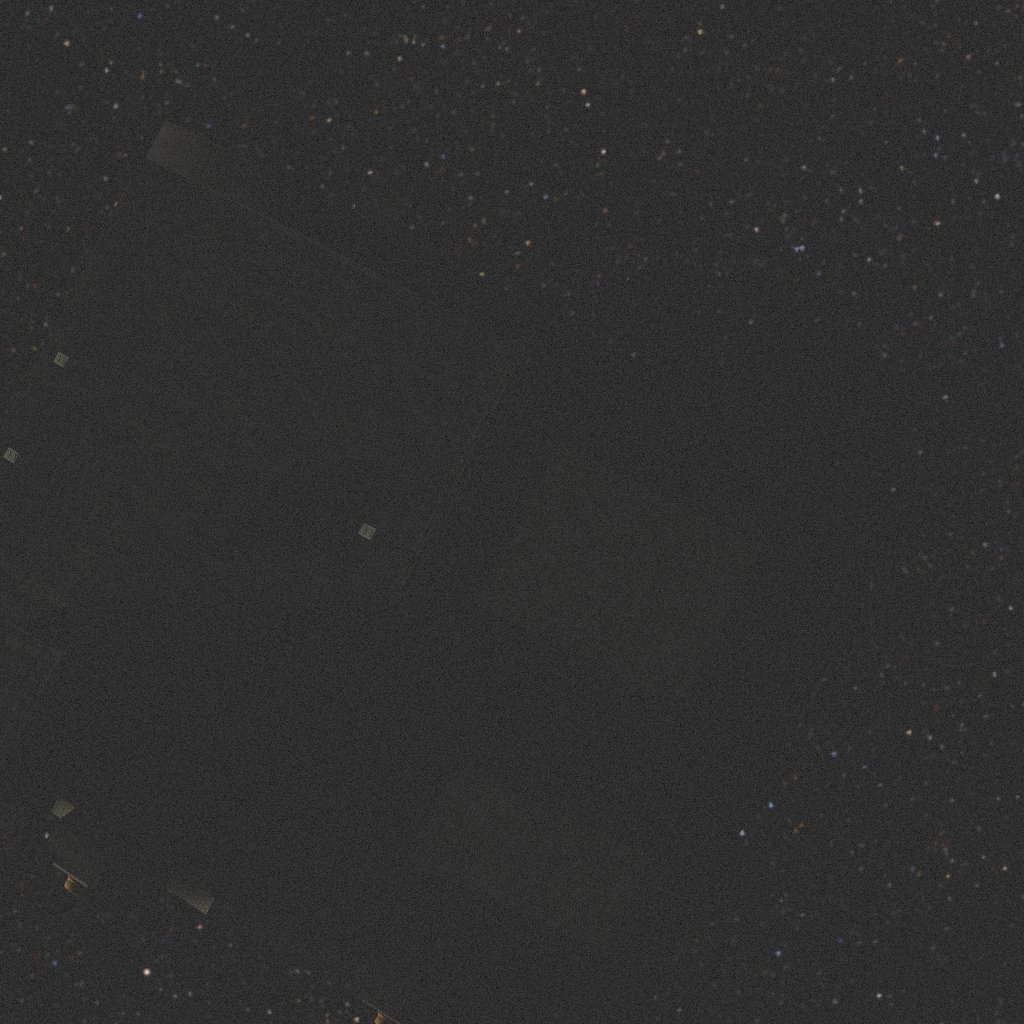proba_3_ocs: (0, 121, 918, 1024)
